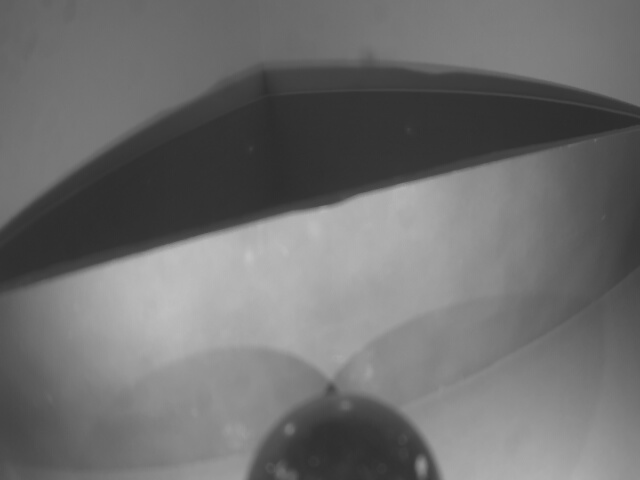Dead: (253, 395, 444, 480)
Green: (0, 127, 639, 480)
